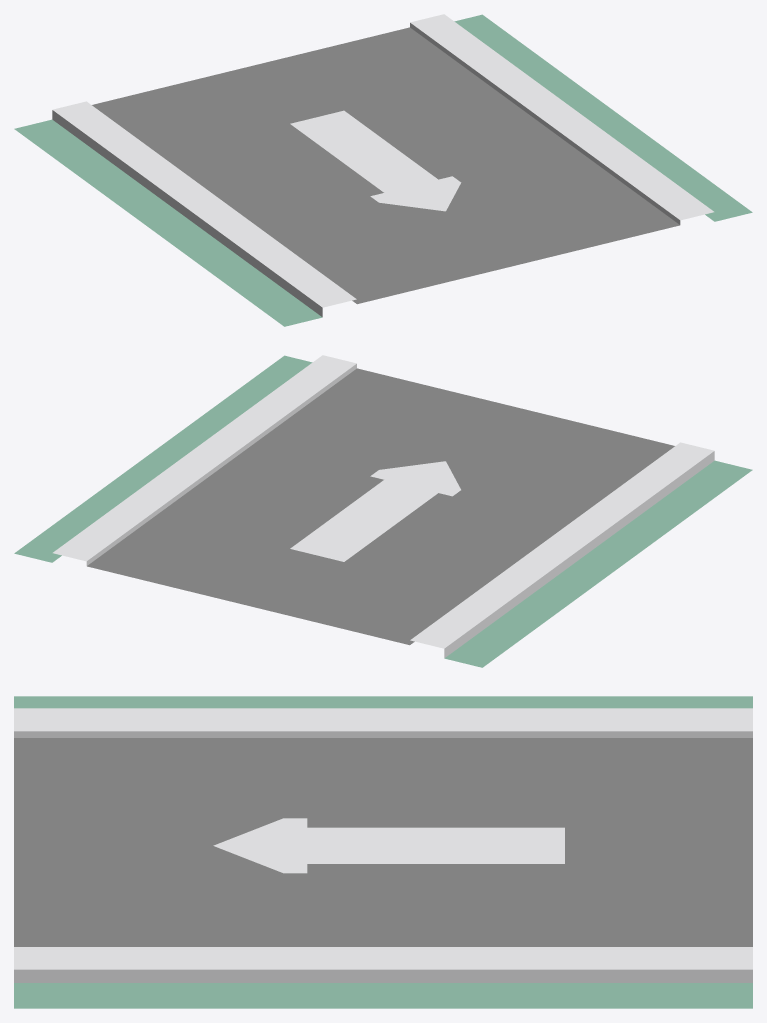
3 renders of one model, top to bottom at view 1: azimuth 30°, elevation 25°; view 2: azimuth 150°, elevation 25°; view 3: azimuth 270°, elevation 25°, orthographic. The views are drawn at different scales.
Parts seen in each view (by area): view 1: roadStraightArrow; view 2: roadStraightArrow; view 3: roadStraightArrow.
Part boxes in pixels (x1,y1,x2,y2): roadStraightArrow: (14, 14, 752, 326); roadStraightArrow: (14, 355, 752, 667); roadStraightArrow: (14, 696, 752, 1008).
Bounding box in the file's own units: 10 × 0.2 × 10.
